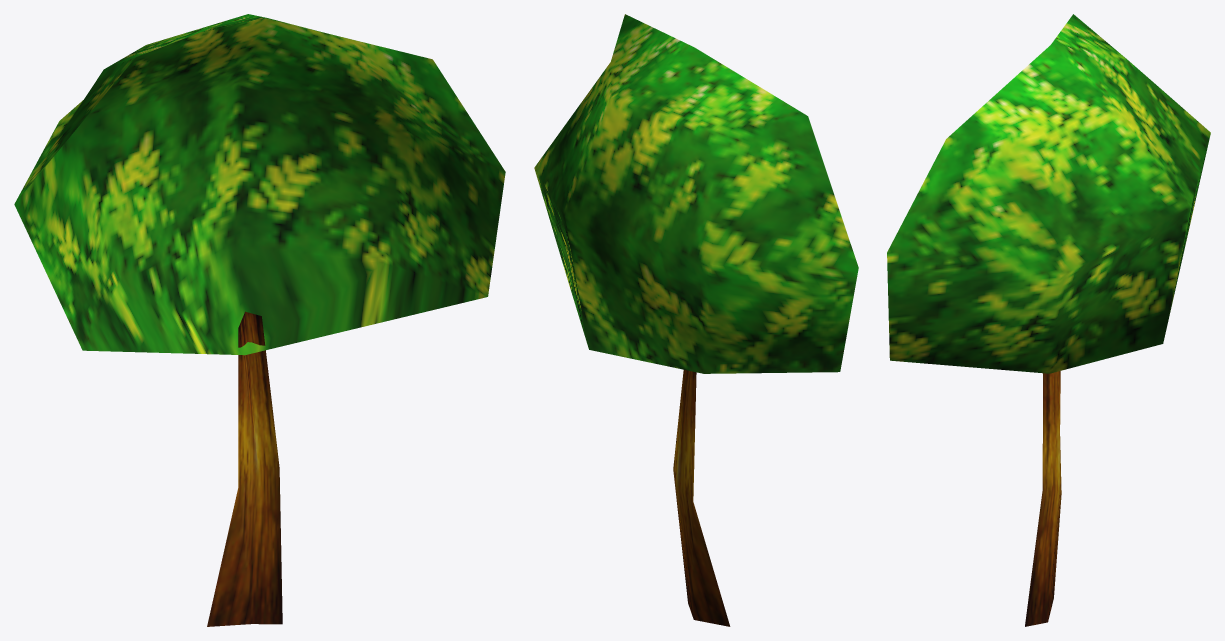
File: tree_02.fbx
The picture shows the model from 3 angles, left to right: view 1: azimuth 30°, elevation 25°; view 2: azimuth 150°, elevation 25°; view 3: azimuth 270°, elevation 25°; orthographic projection. The views are drawn at different scales.
Visible parts, largest first — view 1: tree_02; view 2: tree_02; view 3: tree_02.
Boxes of the visible parts, x1=… form: tree_02: x1=14, y1=14, x2=505, y2=626; tree_02: x1=534, y1=14, x2=858, y2=626; tree_02: x1=887, y1=14, x2=1210, y2=626.
Bounding box in the file's own units: 453 × 703 × 358.
